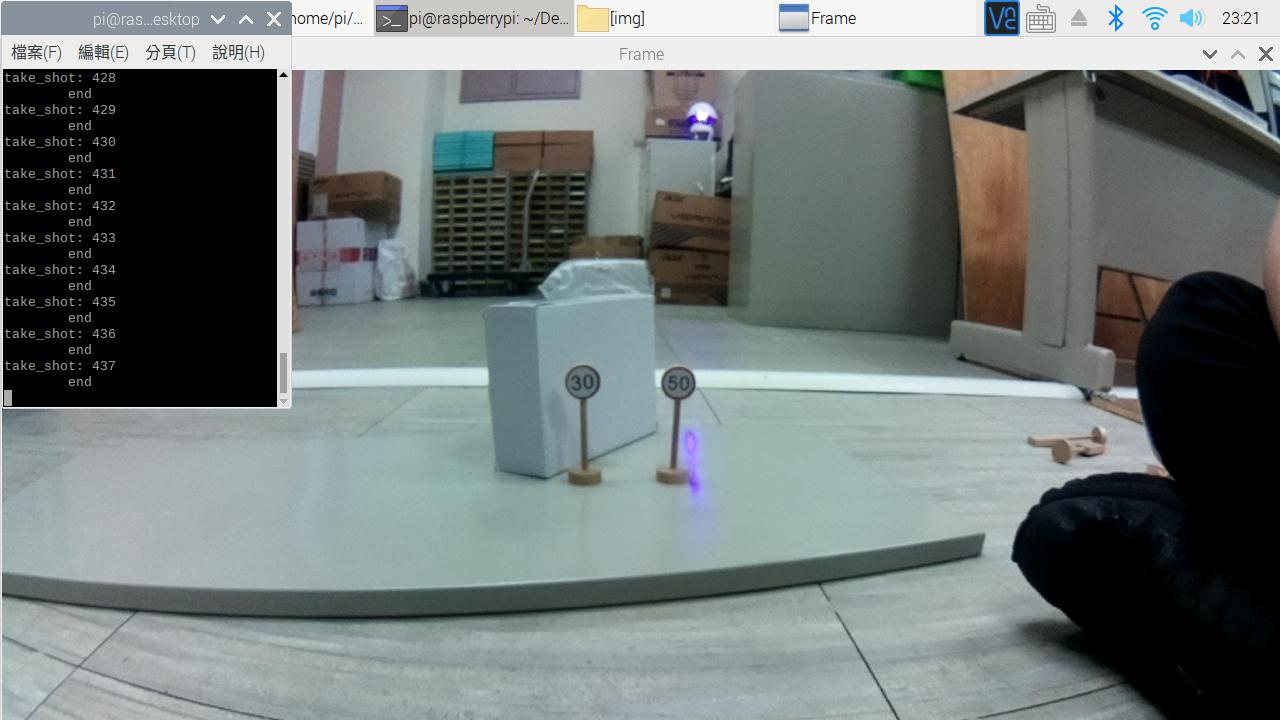Speed30: (556, 360, 609, 413)
Speed50: (659, 361, 705, 411)
